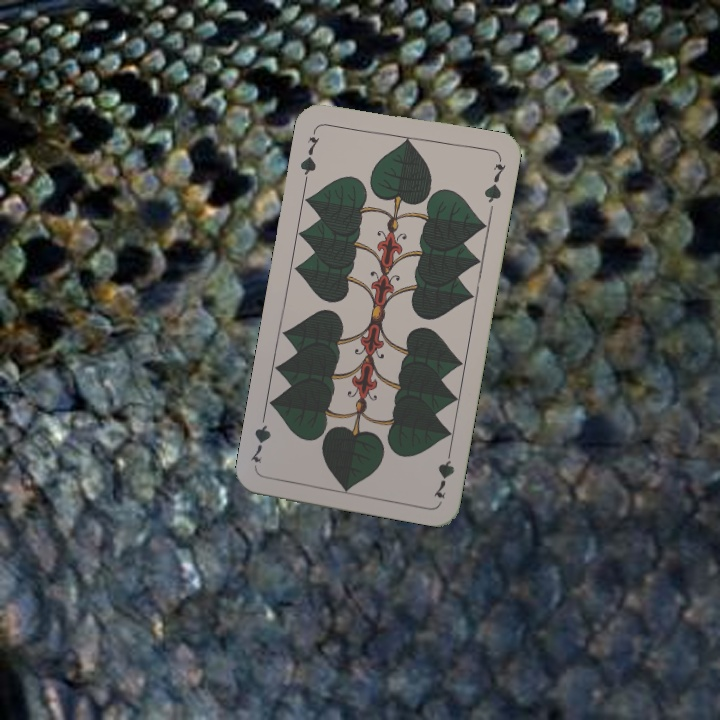G7: (429, 443, 457, 502), (296, 132, 322, 184)
